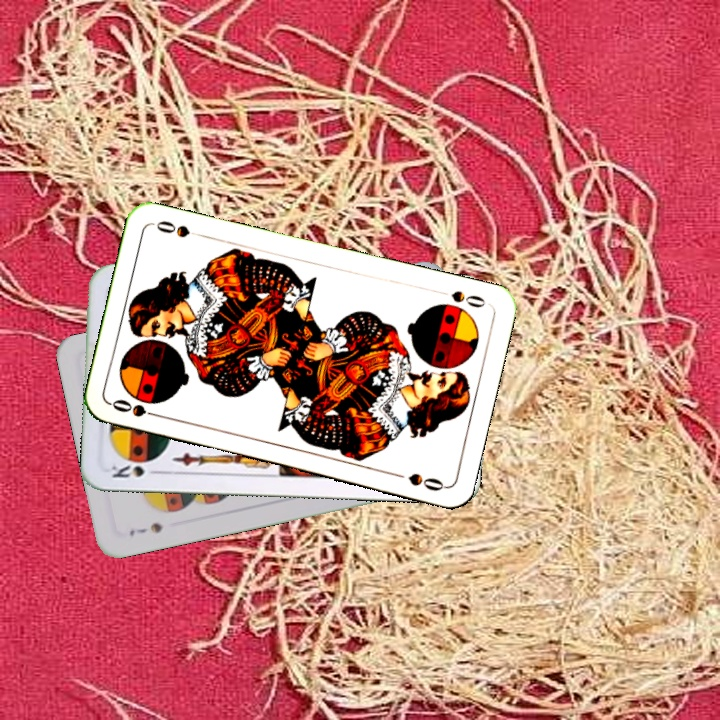S7: (125, 518, 165, 539)
SK: (107, 461, 164, 481)
SO: (108, 395, 166, 421), (433, 286, 488, 311)
